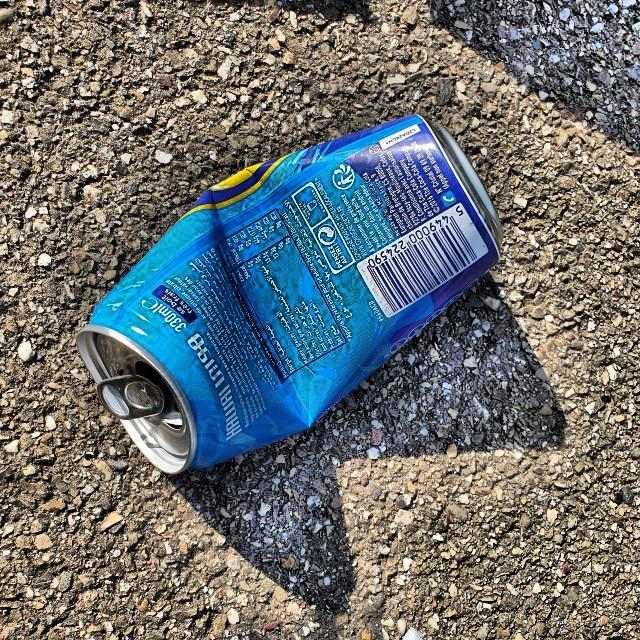metal: (77, 113, 500, 478)
